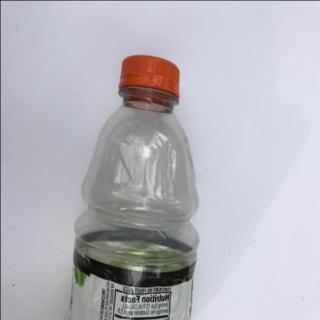Anorganik: (62, 47, 201, 320)
